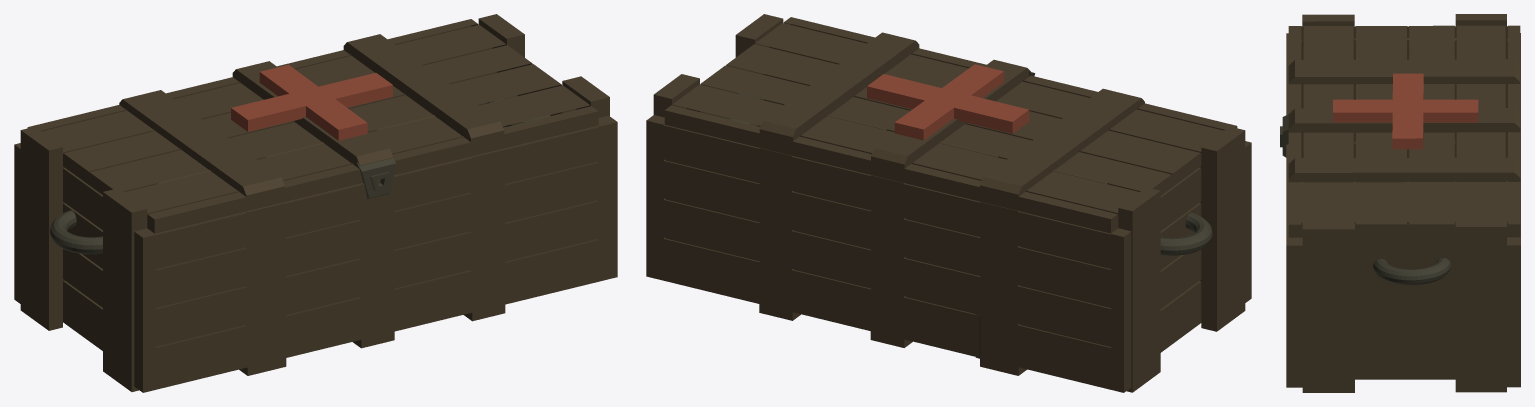
Rendered from military crate.fbx.
The picture shows the model from 3 angles, left to right: view 1: azimuth 30°, elevation 25°; view 2: azimuth 150°, elevation 25°; view 3: azimuth 270°, elevation 25°; orthographic projection. The views are drawn at different scales.
Parts seen in each view (by area): view 1: Cube; view 2: Cube; view 3: Cube.
Part boxes in pixels (x1,y1,x2,y2): Cube: (14,14,617,392); Cube: (646,14,1251,392); Cube: (1280,14,1520,392).
Size of the model in its own units: 693 by 257 by 307.
